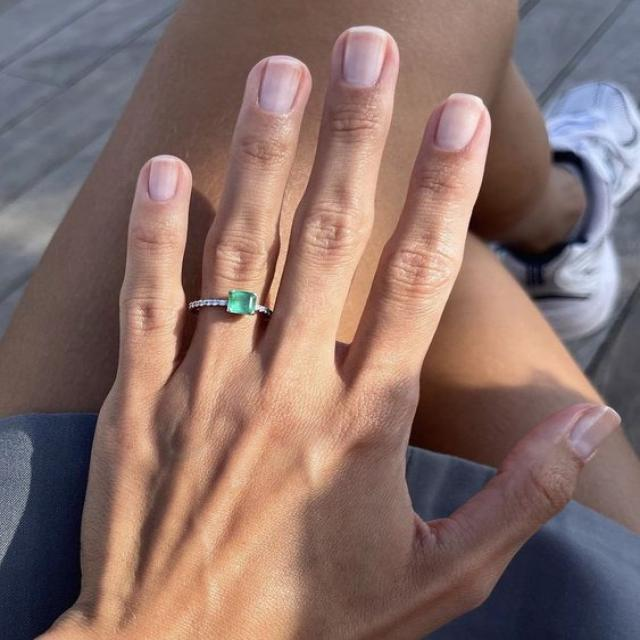Fingernail: (436, 94, 483, 150), (342, 29, 386, 86), (571, 409, 619, 460), (259, 59, 302, 115), (148, 159, 179, 202)
